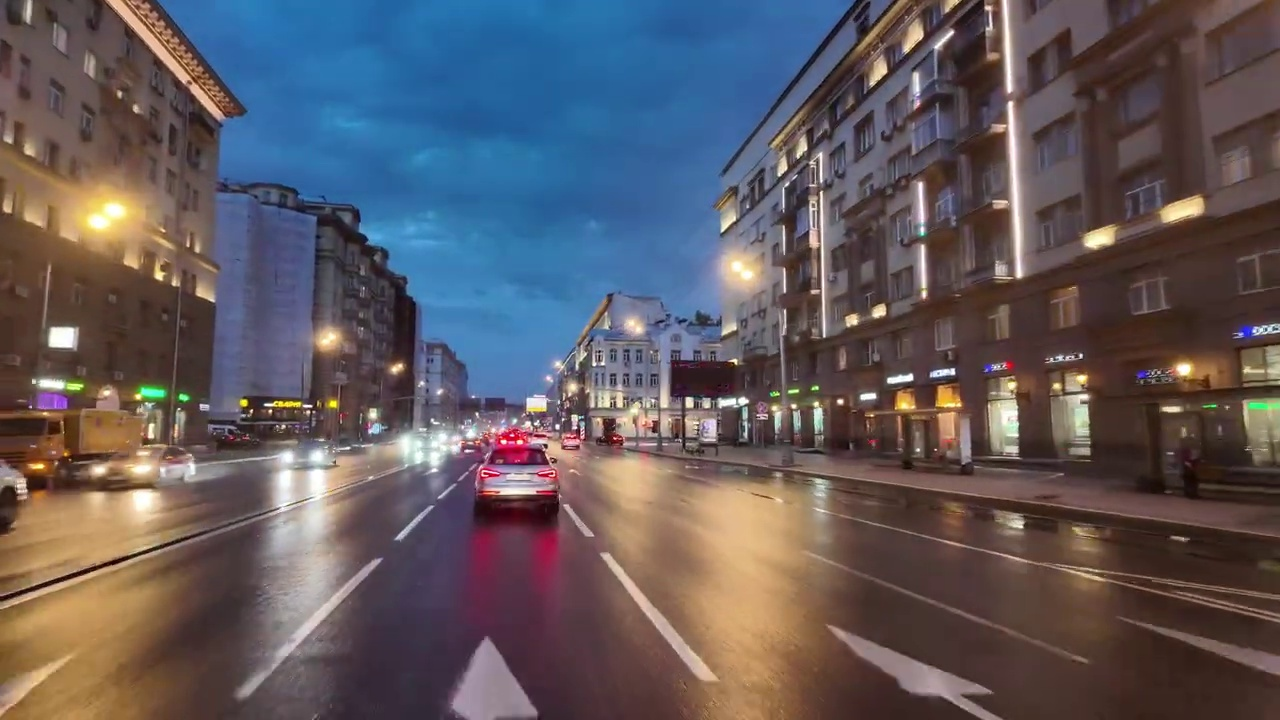acesa: (80, 196, 133, 238), (724, 254, 762, 289), (314, 326, 344, 354)
